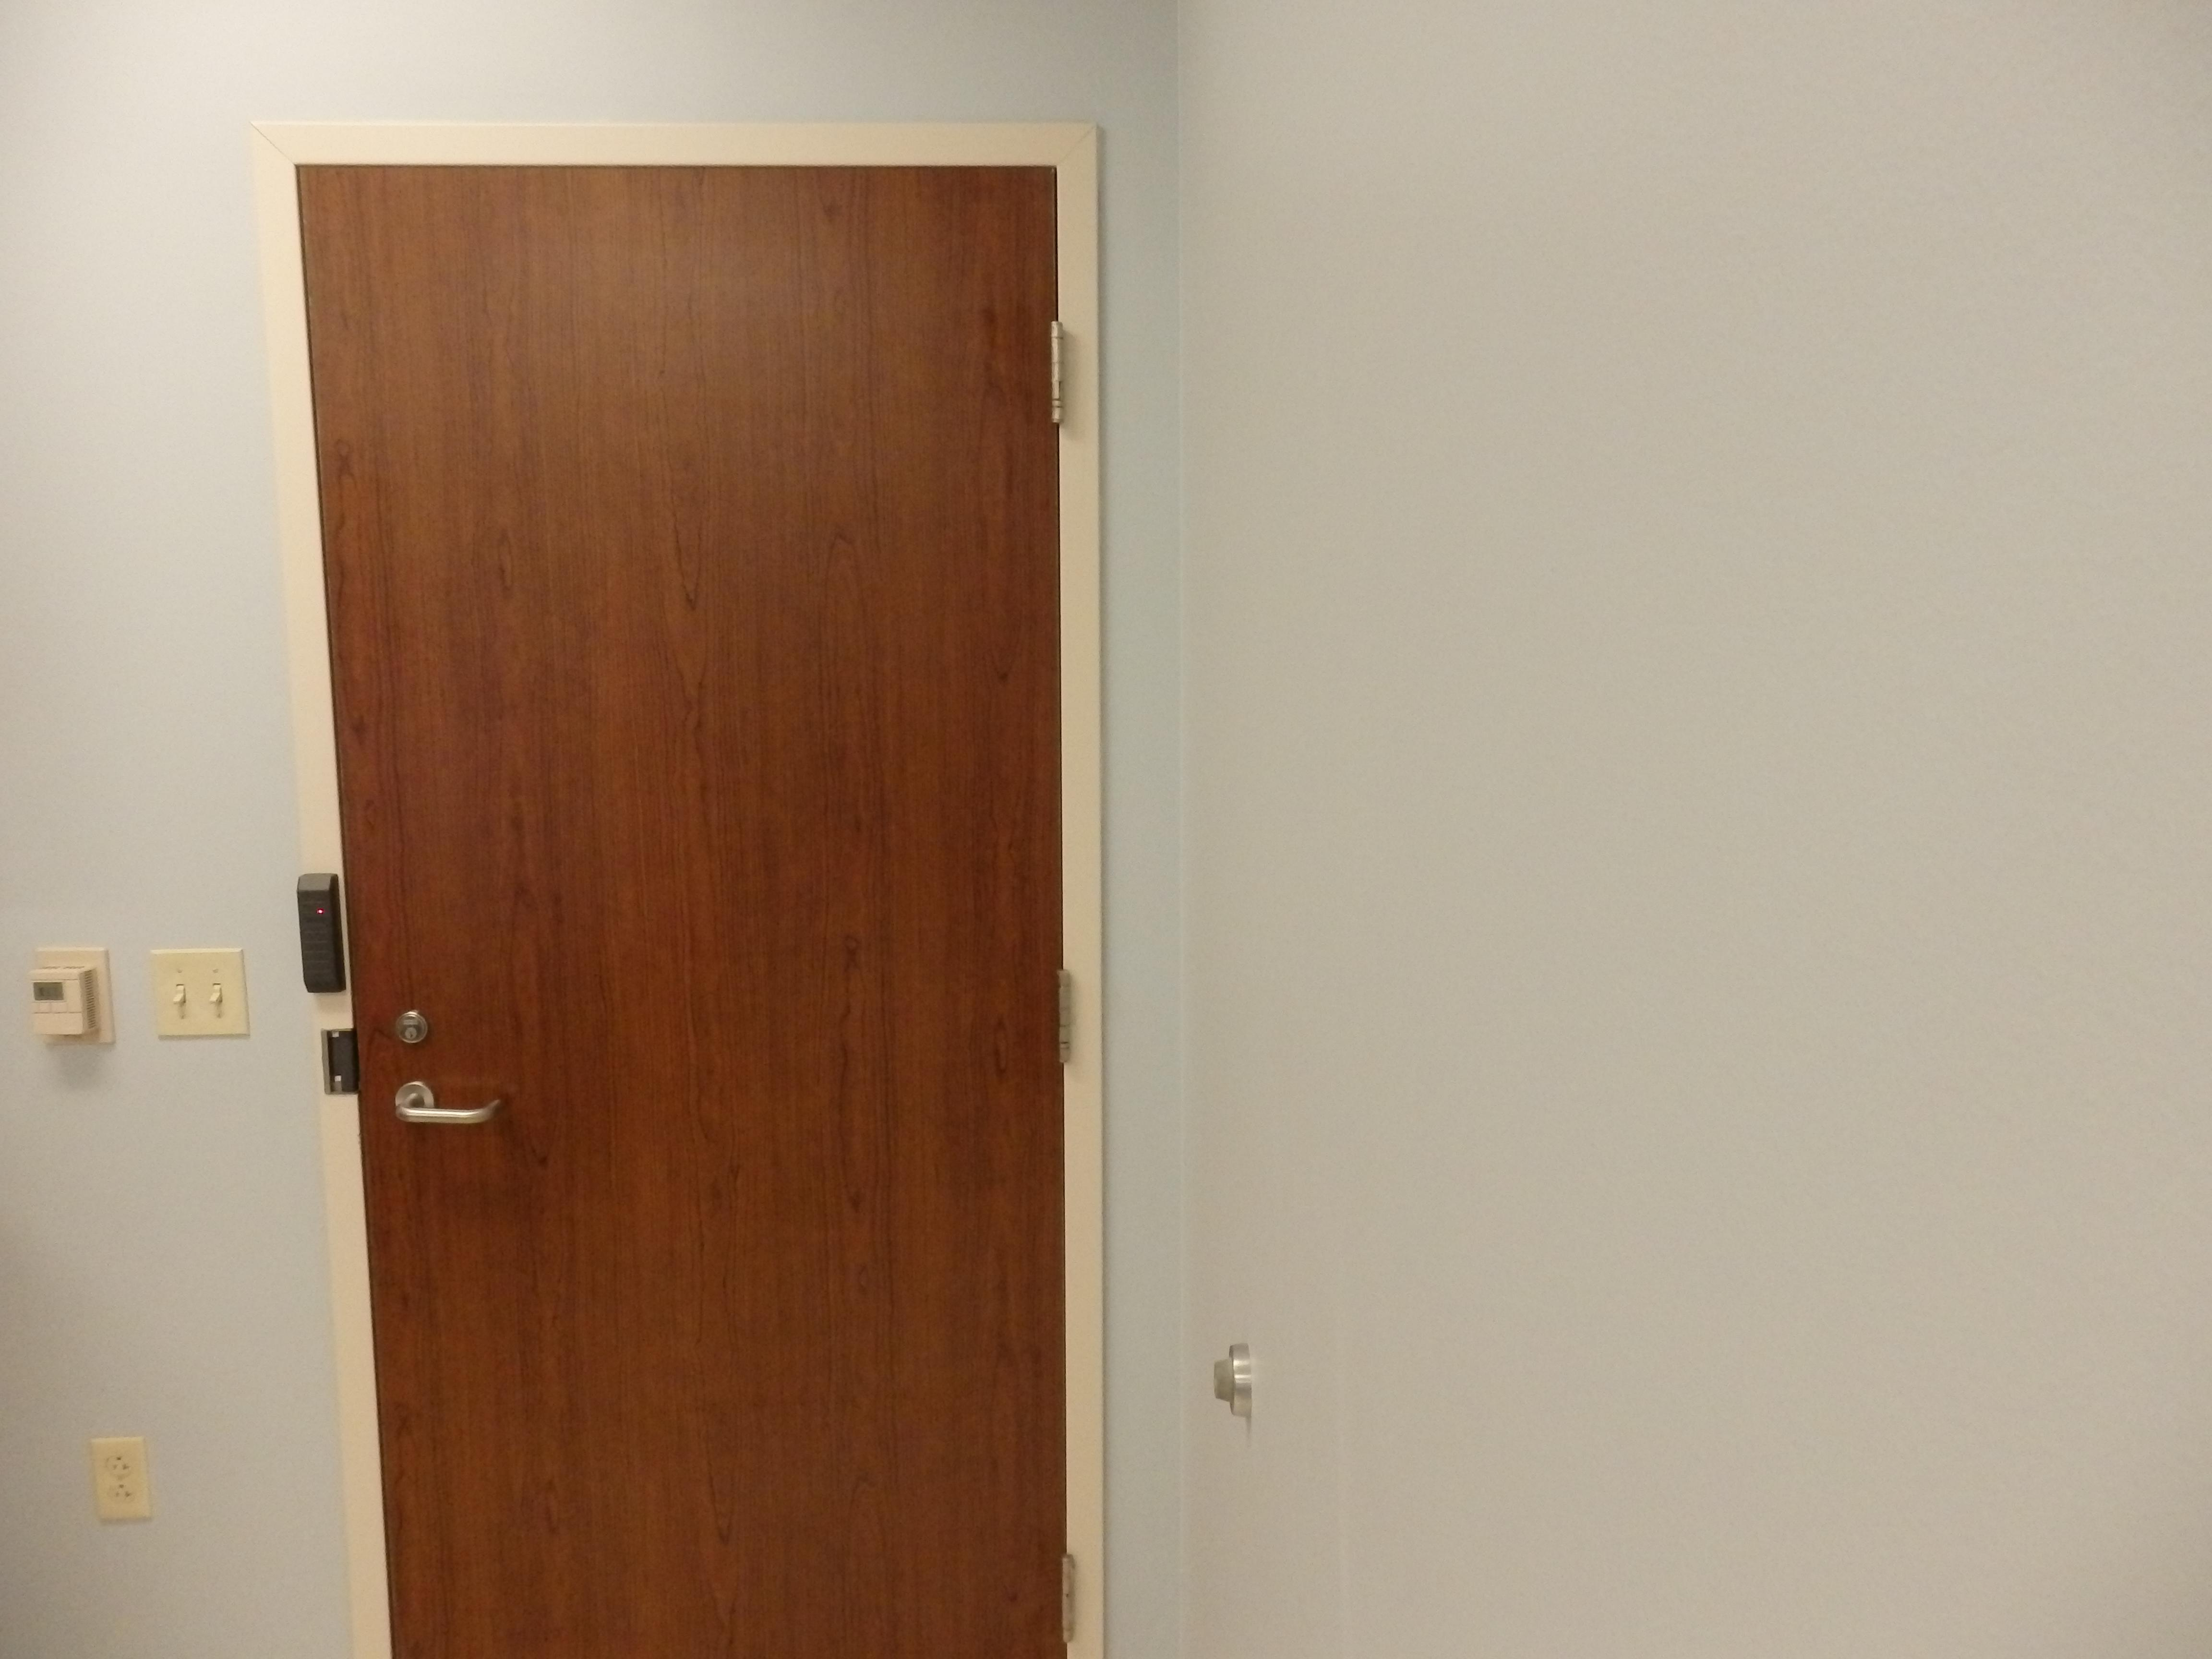door: (307, 150, 1062, 1659)
